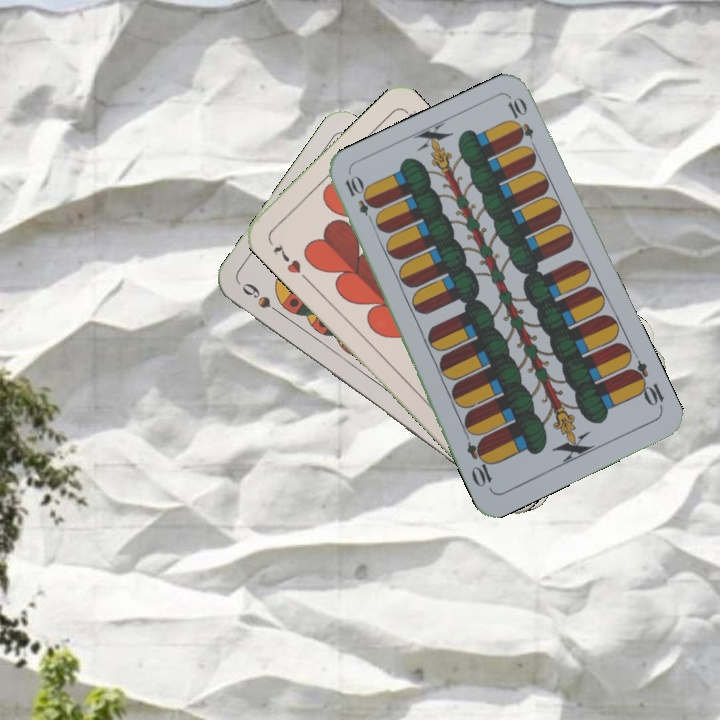E10: (624, 357, 667, 412), (340, 172, 379, 228)
H7: (269, 241, 304, 277)
S9: (237, 278, 288, 320)
